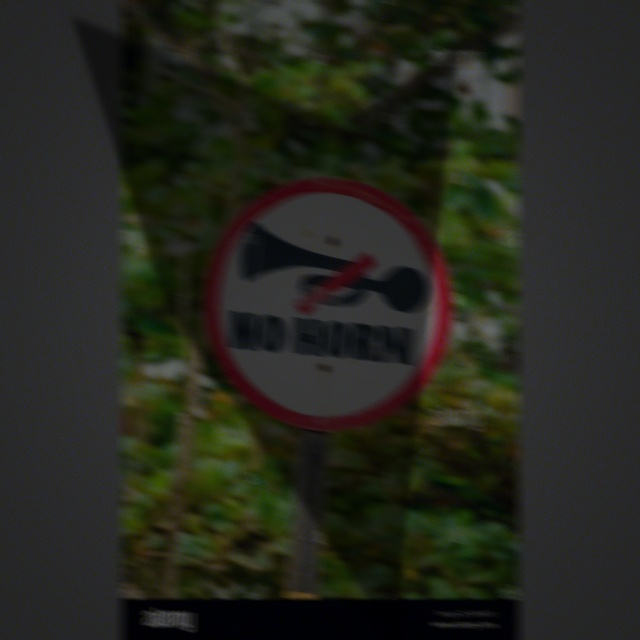Horn_Prohibited: (210, 173, 449, 434)
